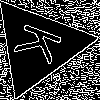K: (13, 21, 72, 70)
